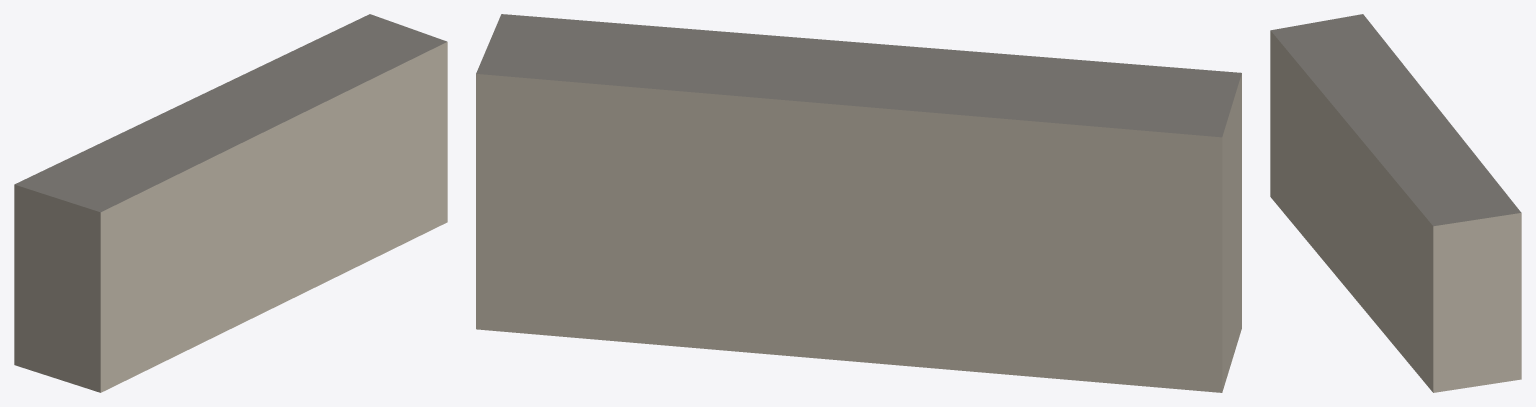
3 views of the same model, side by side, from view 1: azimuth 30°, elevation 25°; view 2: azimuth 150°, elevation 25°; view 3: azimuth 270°, elevation 25° (orthographic). The views are drawn at different scales.
Visible parts, largest first — view 1: HP-w505643407; view 2: HP-w505643407; view 3: HP-w505643407.
Part boxes in pixels (<box>): HP-w505643407: <box>14,14,447,392</box>; HP-w505643407: <box>476,14,1241,392</box>; HP-w505643407: <box>1270,14,1521,392</box>.
Bounding box in the file's own units: 49.17 × 18 × 24.57.
